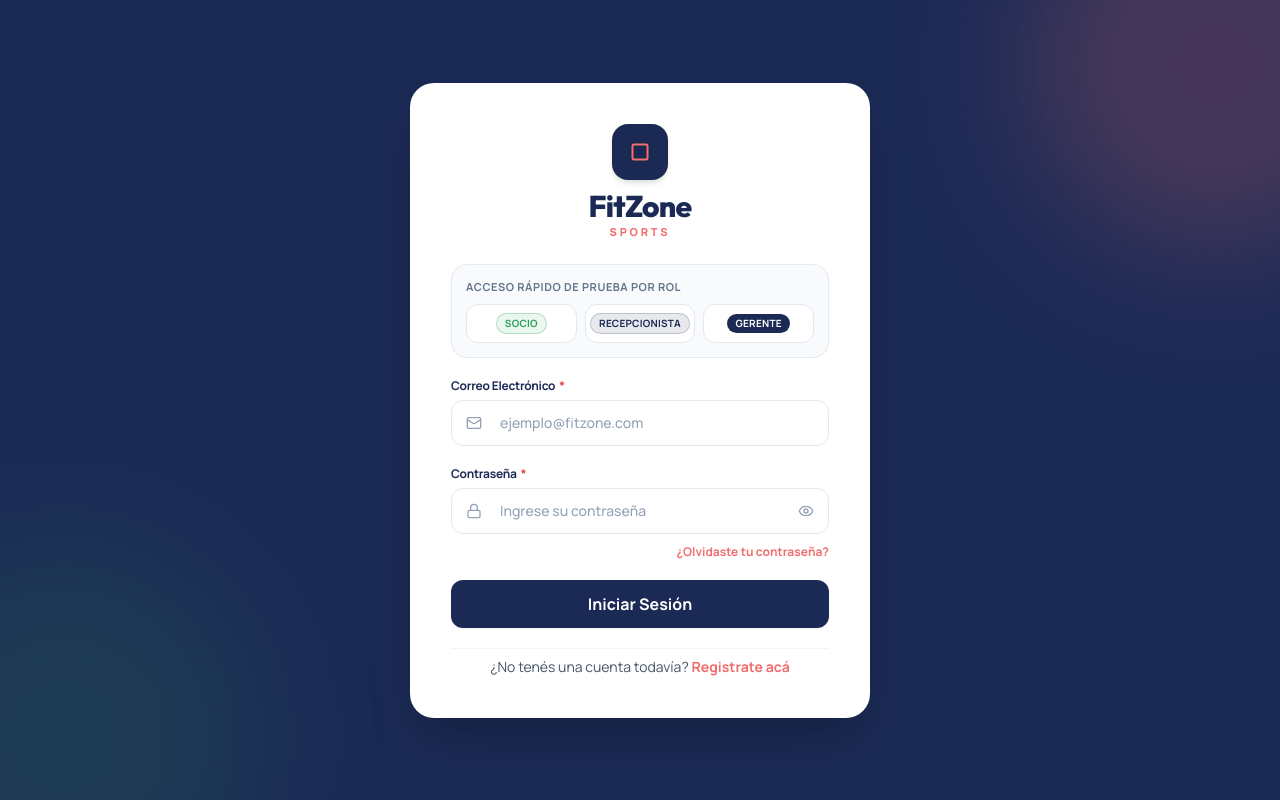
Test: SCRUM-89: LoginPage Component & Role Redirection › renderiza la marca FitZone Sports, formulario y modal de recuperación
Expected: the heading "FitZone" is shown, [589,188,692,224]
Expected: the text "SPORTS" is shown, [610,224,670,238]
Abrir modal de olvido de contraseña
Click the button "¿Olvidaste tu contraseña?". click: (753, 552)
box: [676,544,829,560]
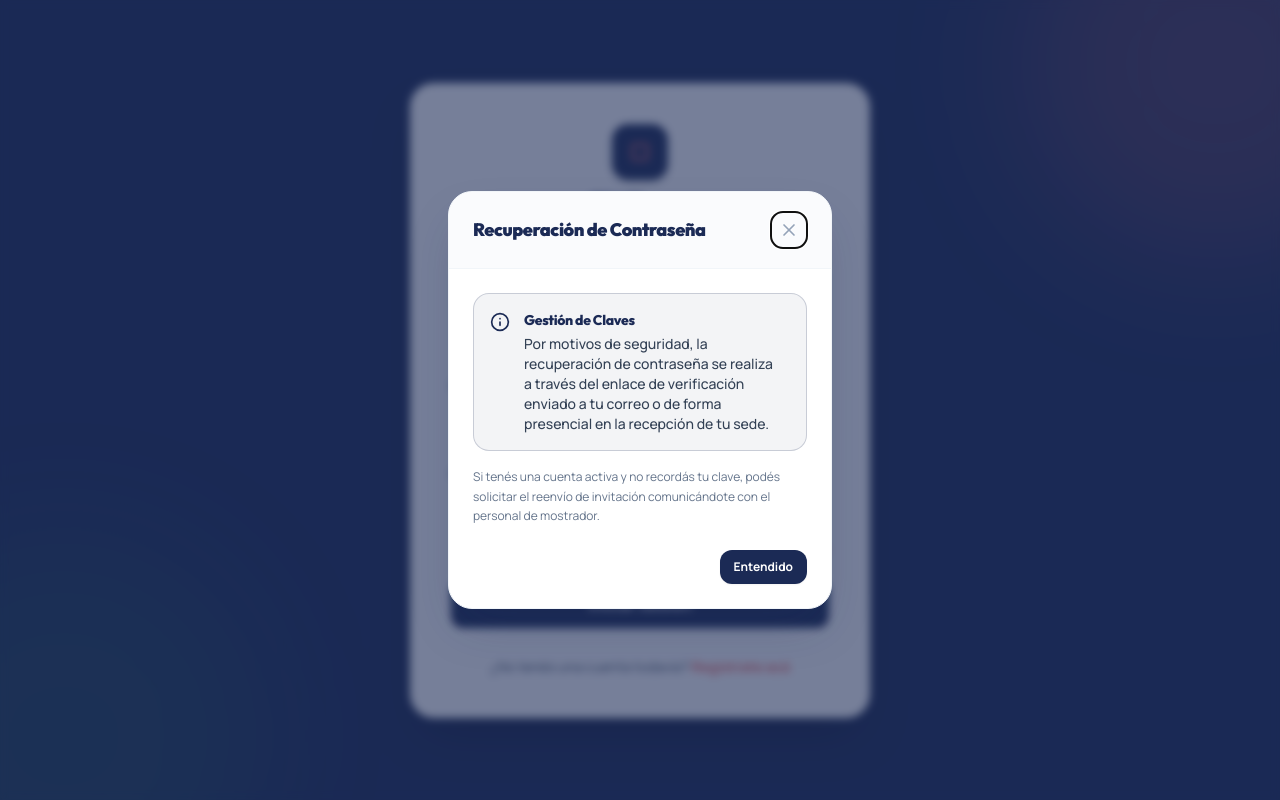
Now the heading "Recuperación de Contraseña" is shown, box [473,216,706,244]
